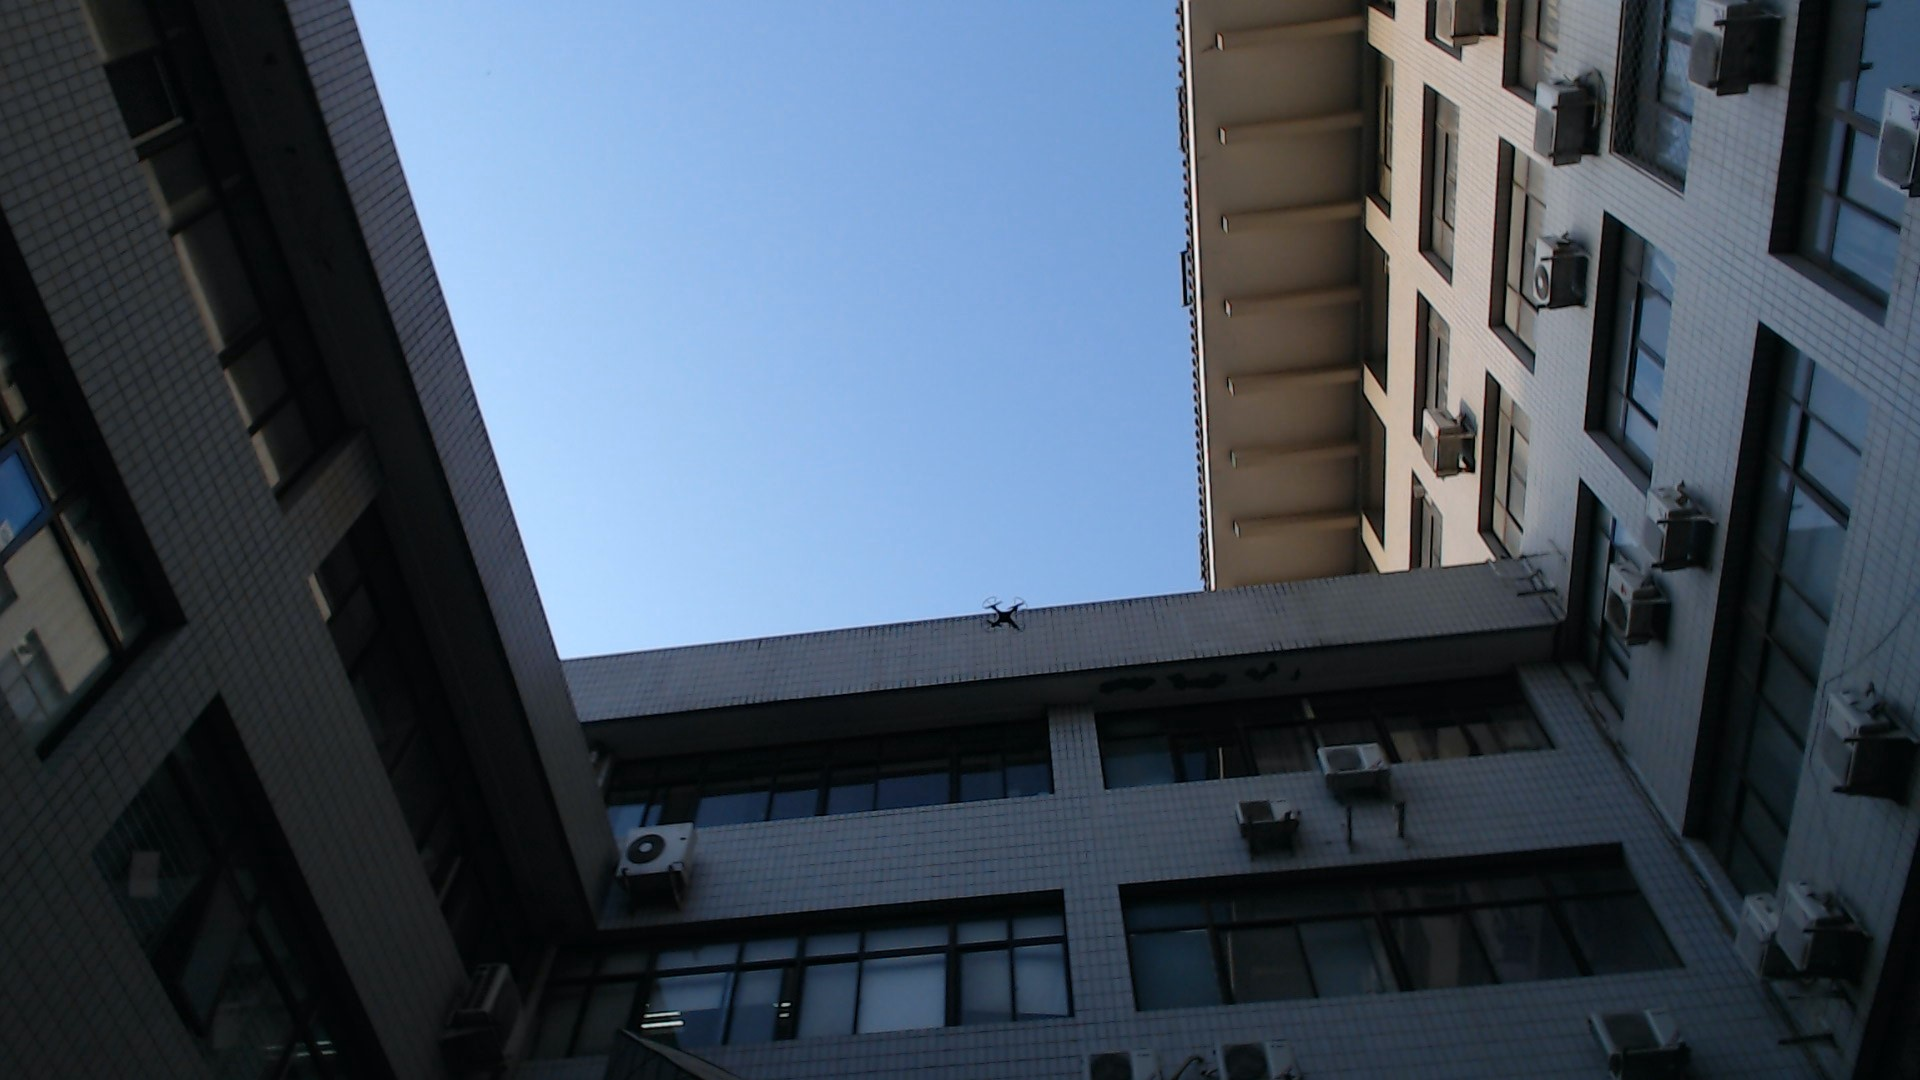drone: (967, 579, 1044, 647)
